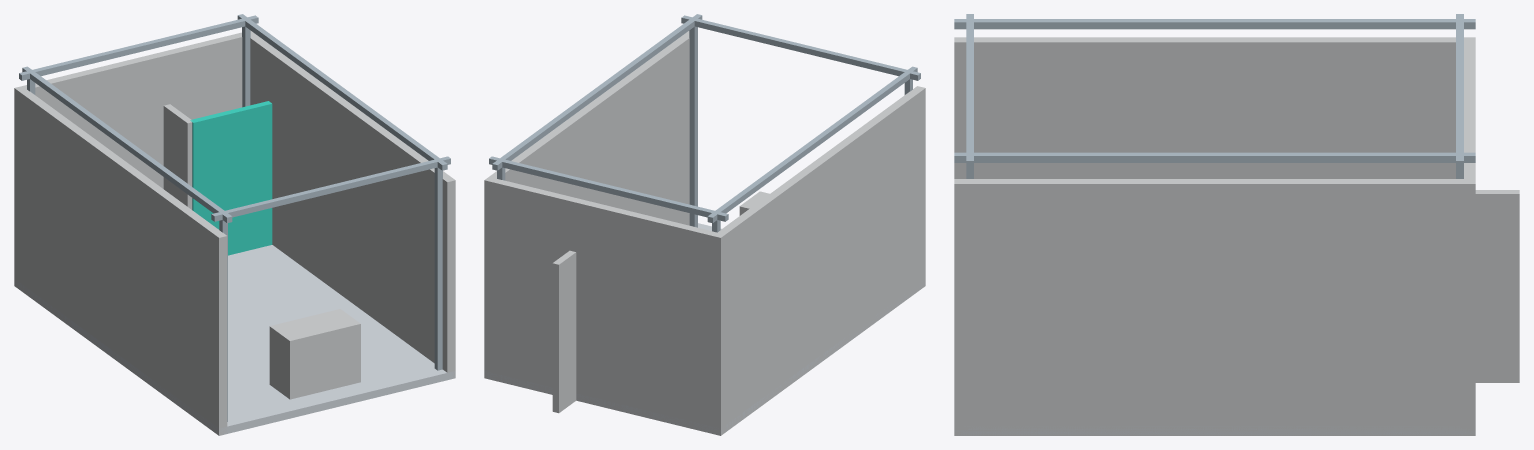
3 renders of one model, left to right at view 1: azimuth 30°, elevation 25°; view 2: azimuth 150°, elevation 25°; view 3: azimuth 270°, elevation 25°, orthographic. The views are drawn at different scales.
Visible parts, largest first — view 1: Exhibition Booth Concept; view 2: Exhibition Booth Concept; view 3: Exhibition Booth Concept.
Boxes of the visible parts, box(x1,y1,x2,y2) form: Exhibition Booth Concept: box(14, 14, 455, 435); Exhibition Booth Concept: box(484, 14, 925, 435); Exhibition Booth Concept: box(954, 14, 1519, 435).
Bounding box in the file's own units: 4 × 3.49 × 6.51.
